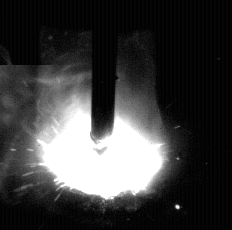arame: (91, 0, 116, 143)
poca: (36, 0, 171, 230)
